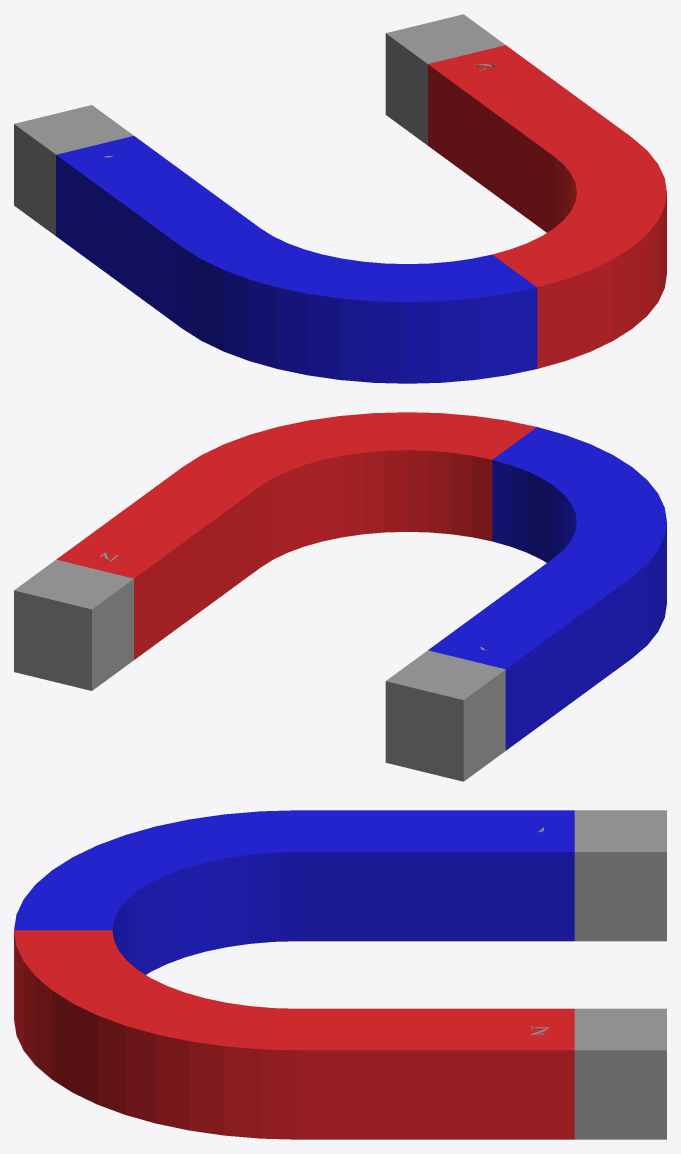
The model's file is magnet.fbx.
3 views of the same model, one above another, from view 1: azimuth 30°, elevation 25°; view 2: azimuth 150°, elevation 25°; view 3: azimuth 270°, elevation 25° (orthographic). The views are drawn at different scales.
Visible parts, largest first — view 1: Cube; view 2: Cube; view 3: Cube.
Boxes of the visible parts, x1,y1,x2,y2 form: Cube: (14,14,666,383); Cube: (14,412,666,781); Cube: (14,810,666,1139).
Size of the model in its own units: 1154 by 200 by 1326.
